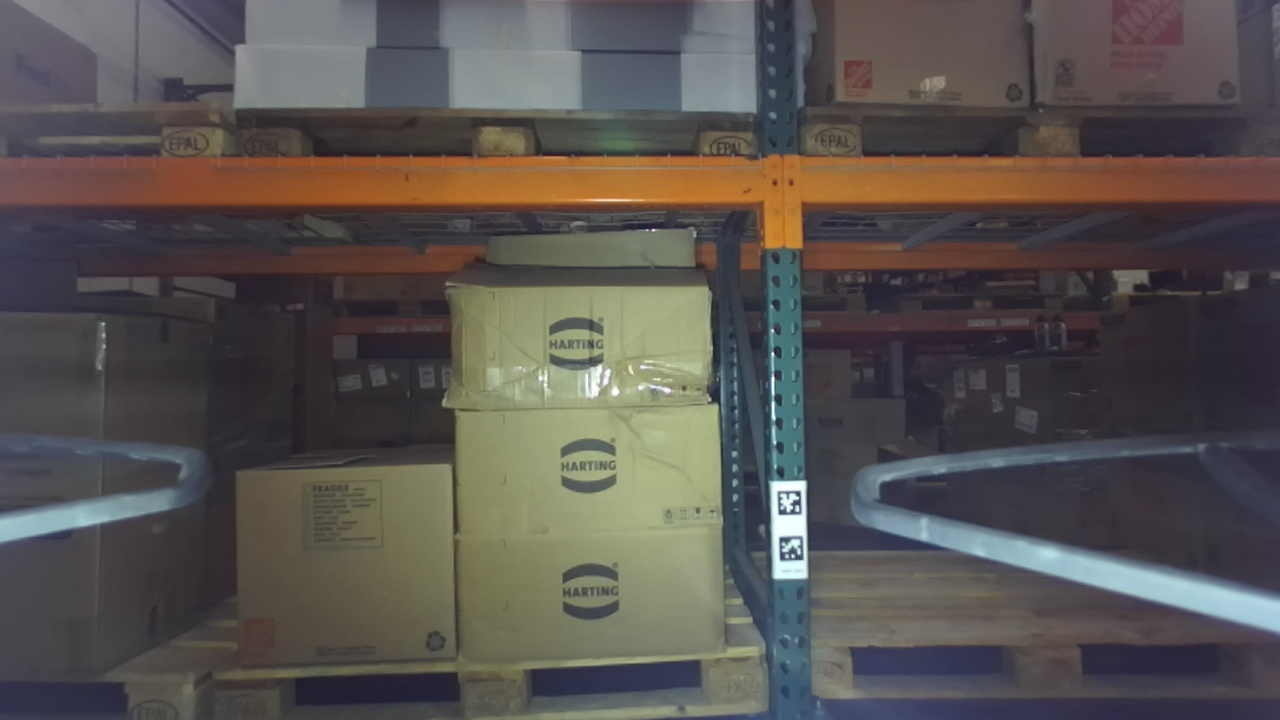box: (441, 223, 741, 425), (221, 453, 477, 672), (449, 510, 738, 679), (440, 388, 738, 523)
